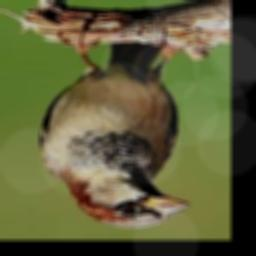Sparrow: (39, 24, 191, 227)
